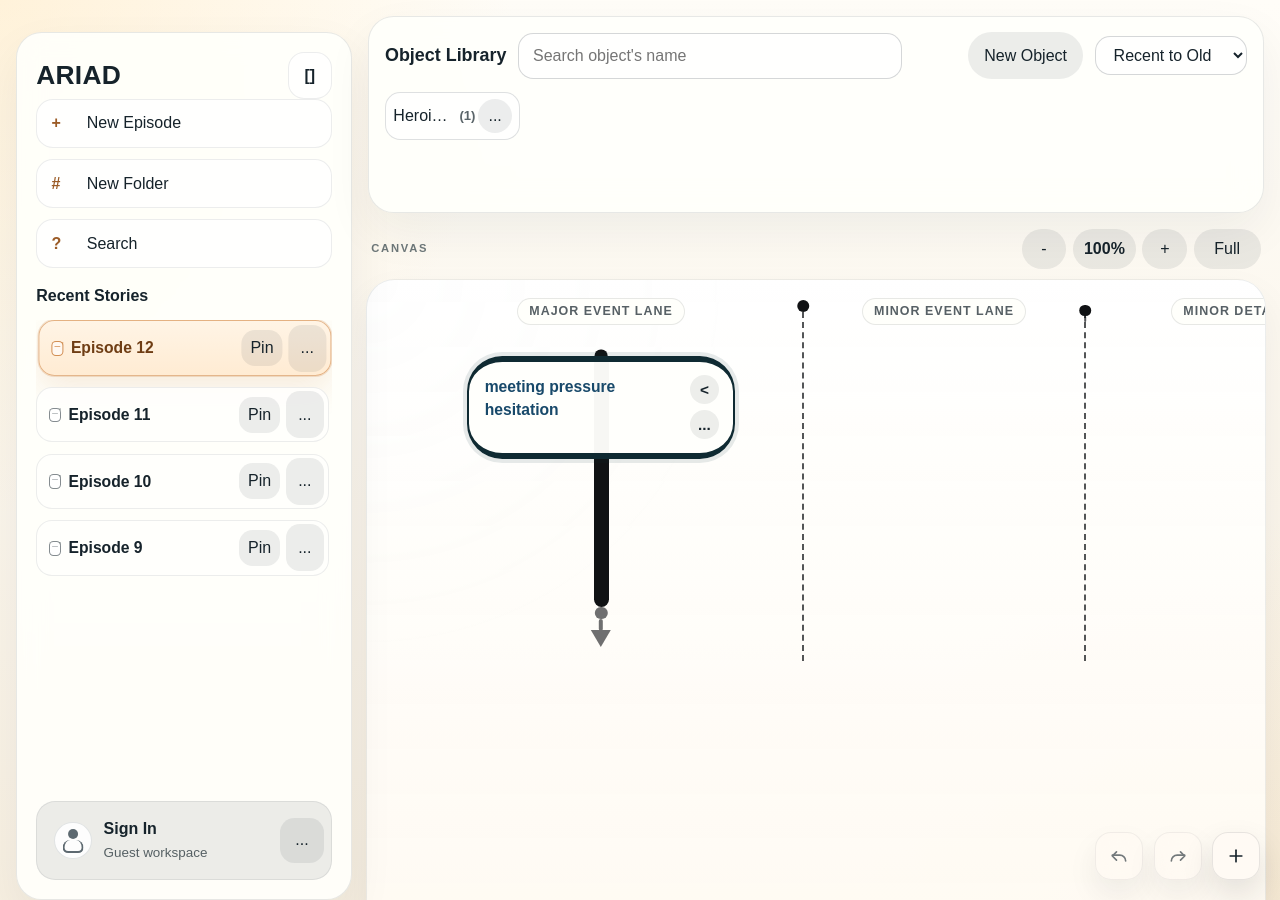
workspace shell recommendation flow › invalidates pooled keyword suggestions when the selected keyword context changes
Click the button named "Create Node" at (1236, 856), box [1212,832,1260,880]
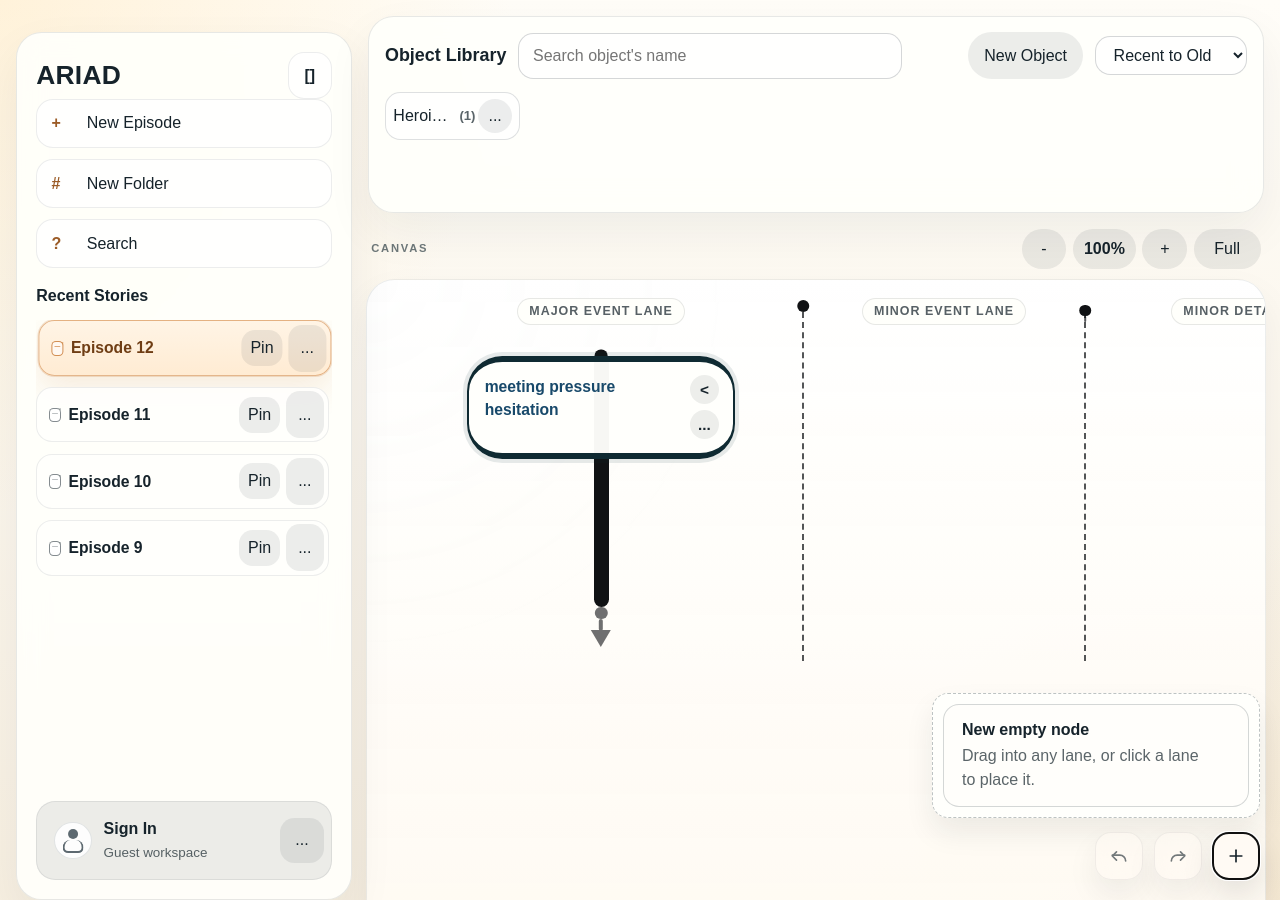
Click the element with test id "lane-major" at (601, 500), box [586,349,616,651]
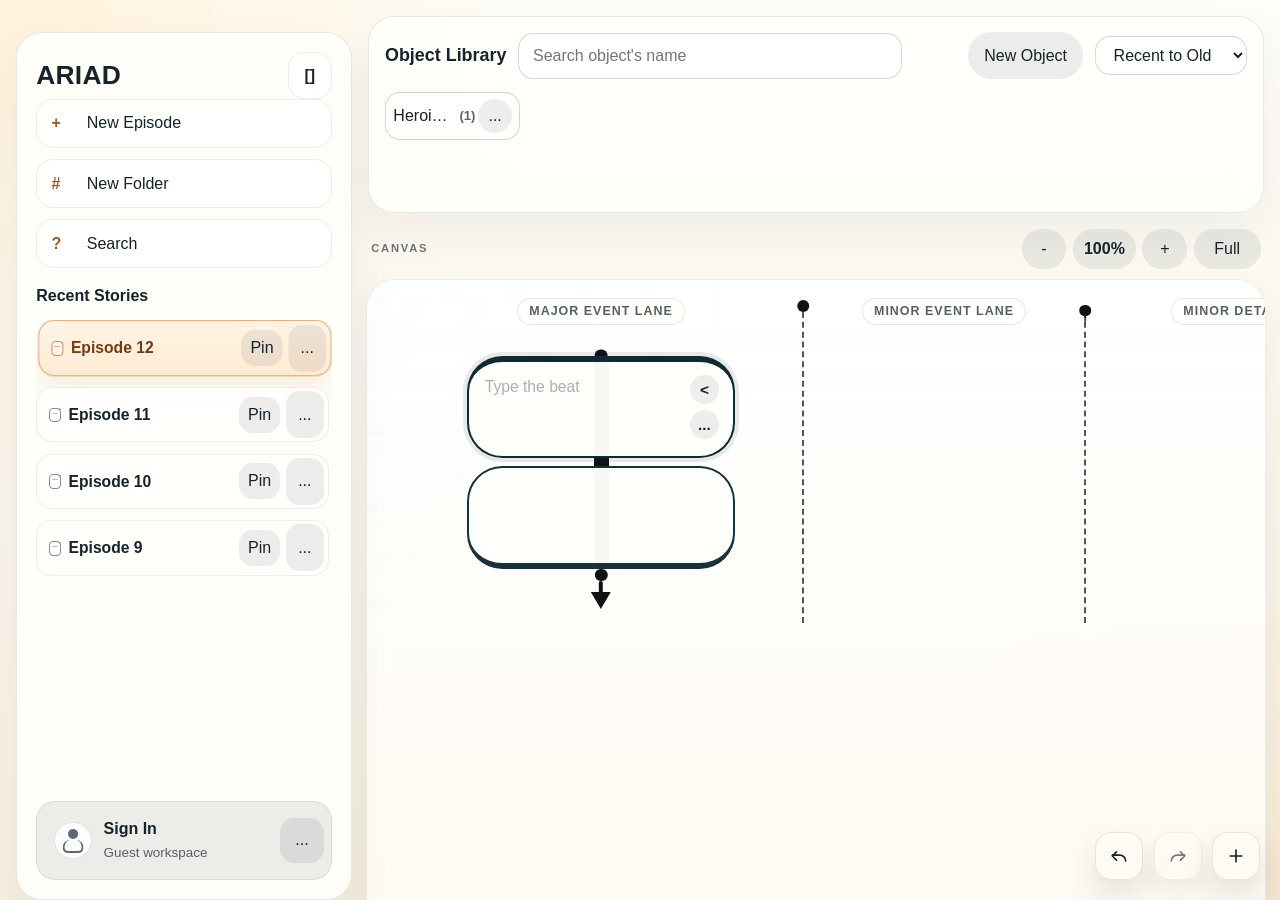
Click the button named "More" at (704, 424), box [690,410,719,439]
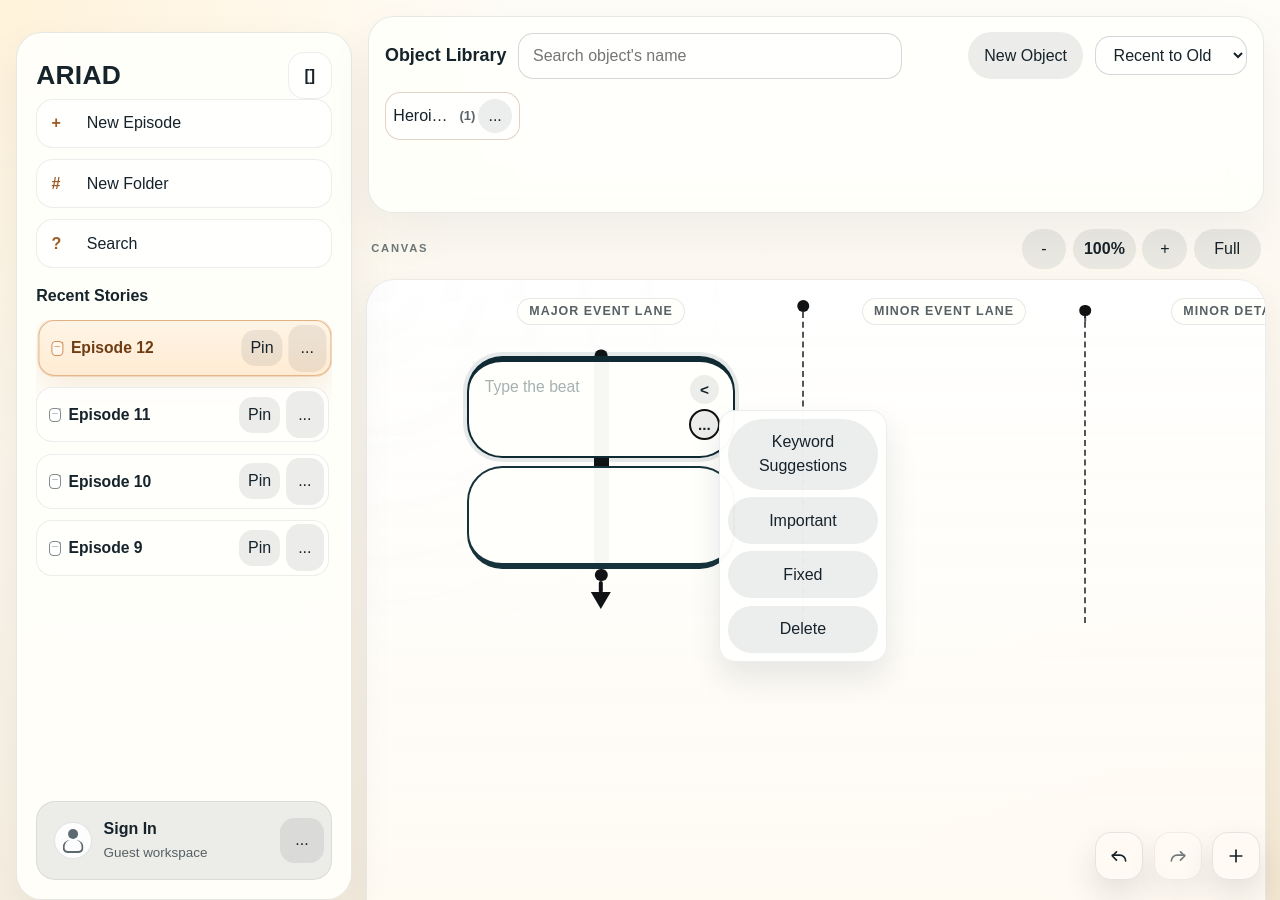
Click the button "Keyword Suggestions" at (803, 454), box [728,419,878,490]
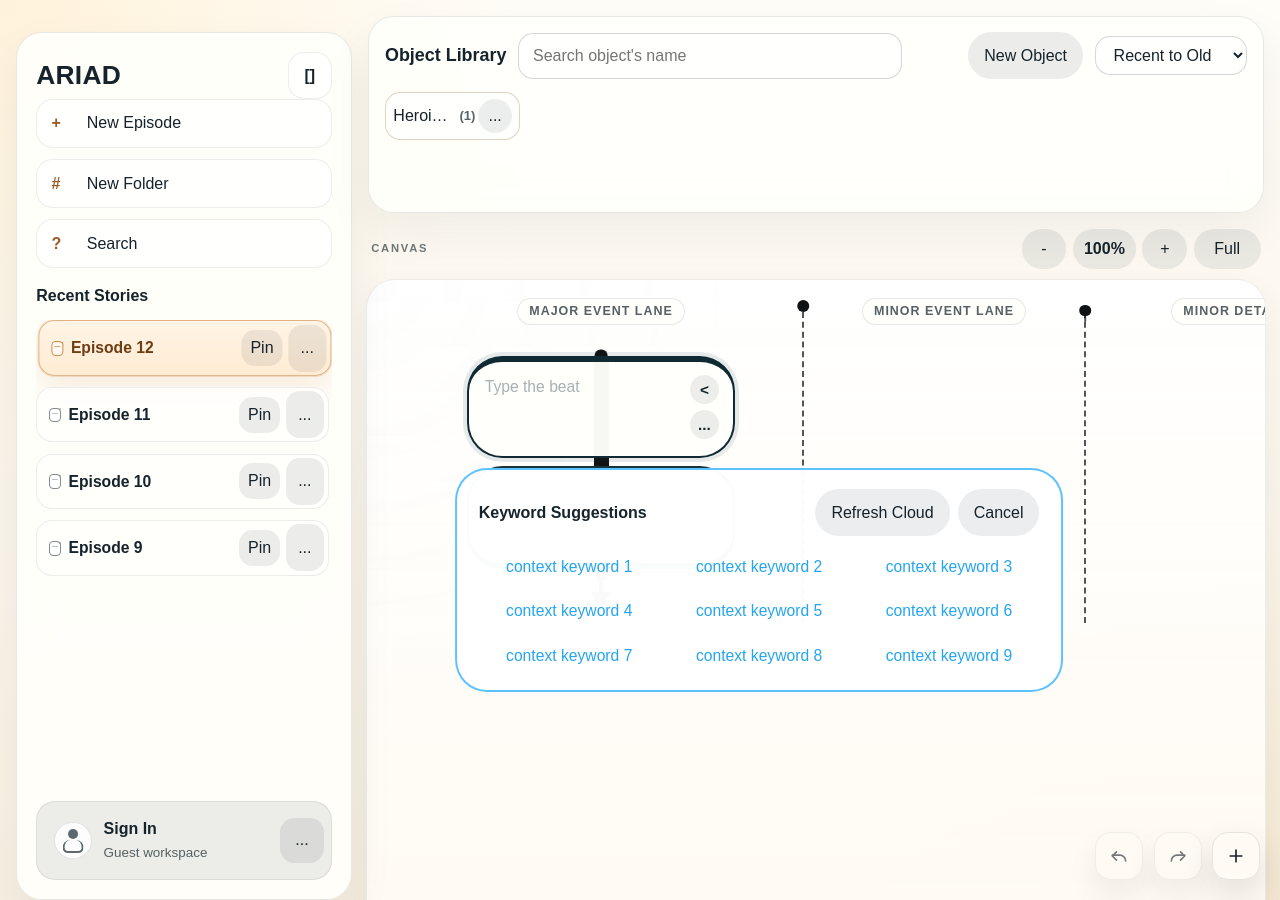
Click the button "context keyword 1" at (569, 566), box [479,551,660,581]
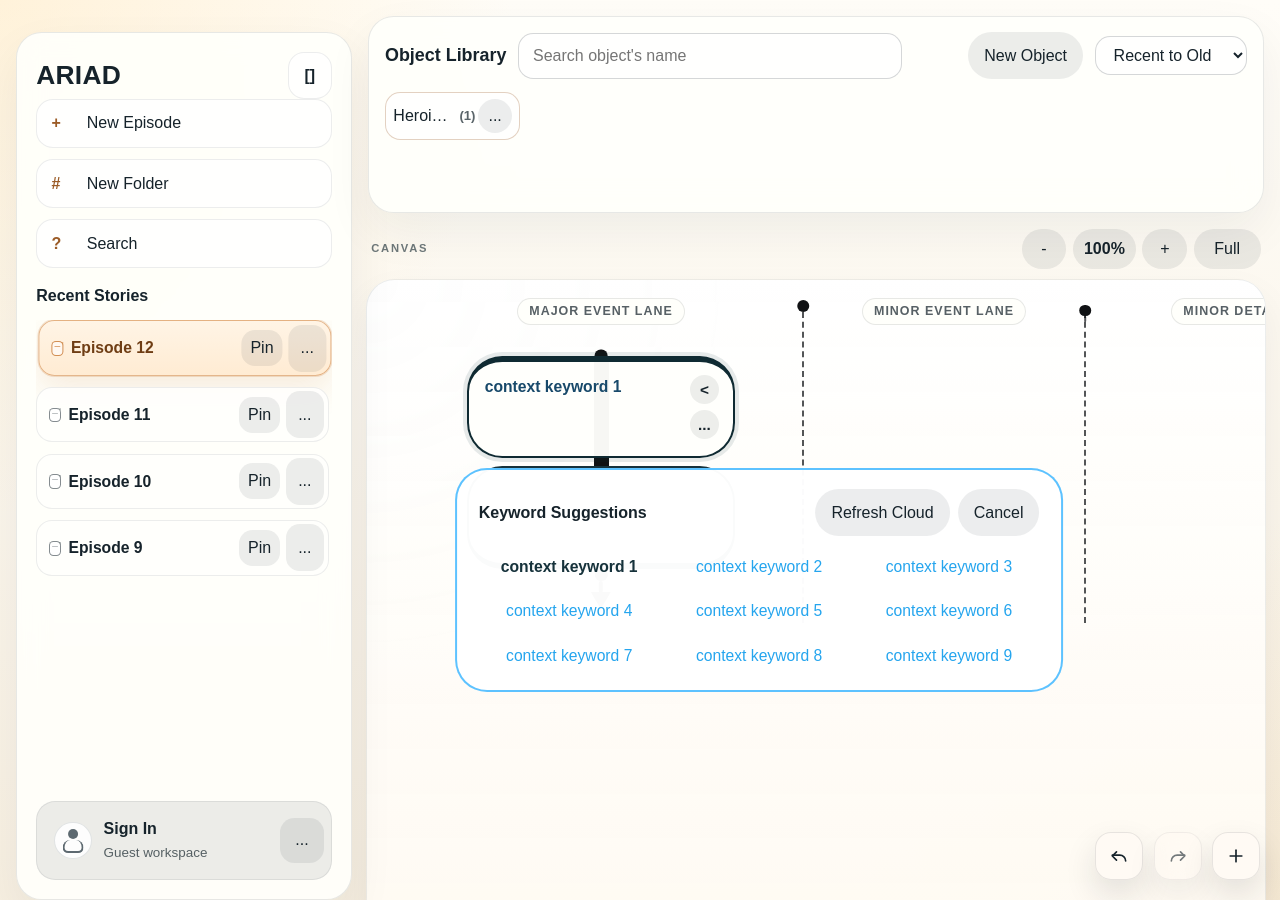
Click the button "Refresh Cloud" at (883, 512), box [815,489,950,536]
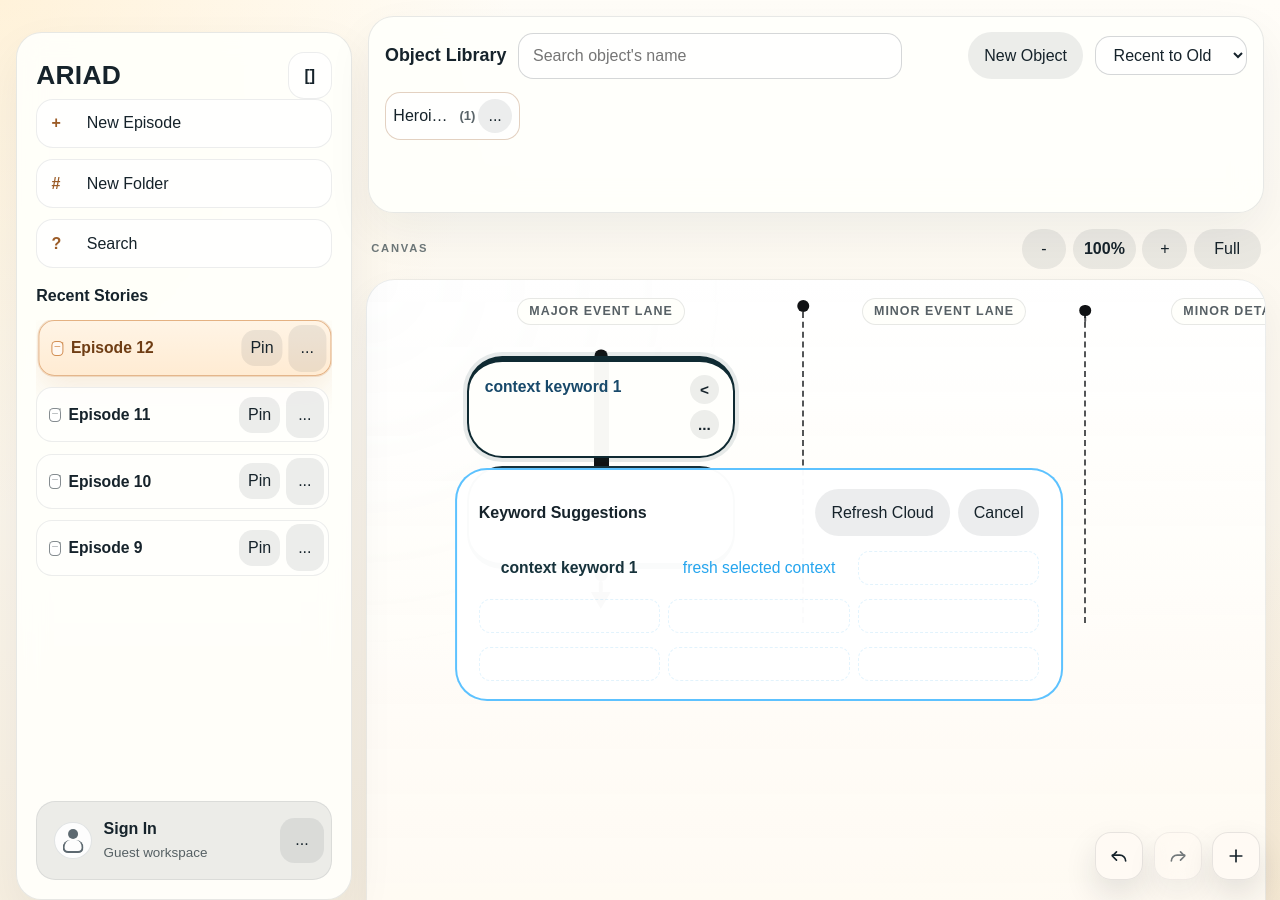
Now the button "fresh selected context" is shown, box [668,551,850,585]
